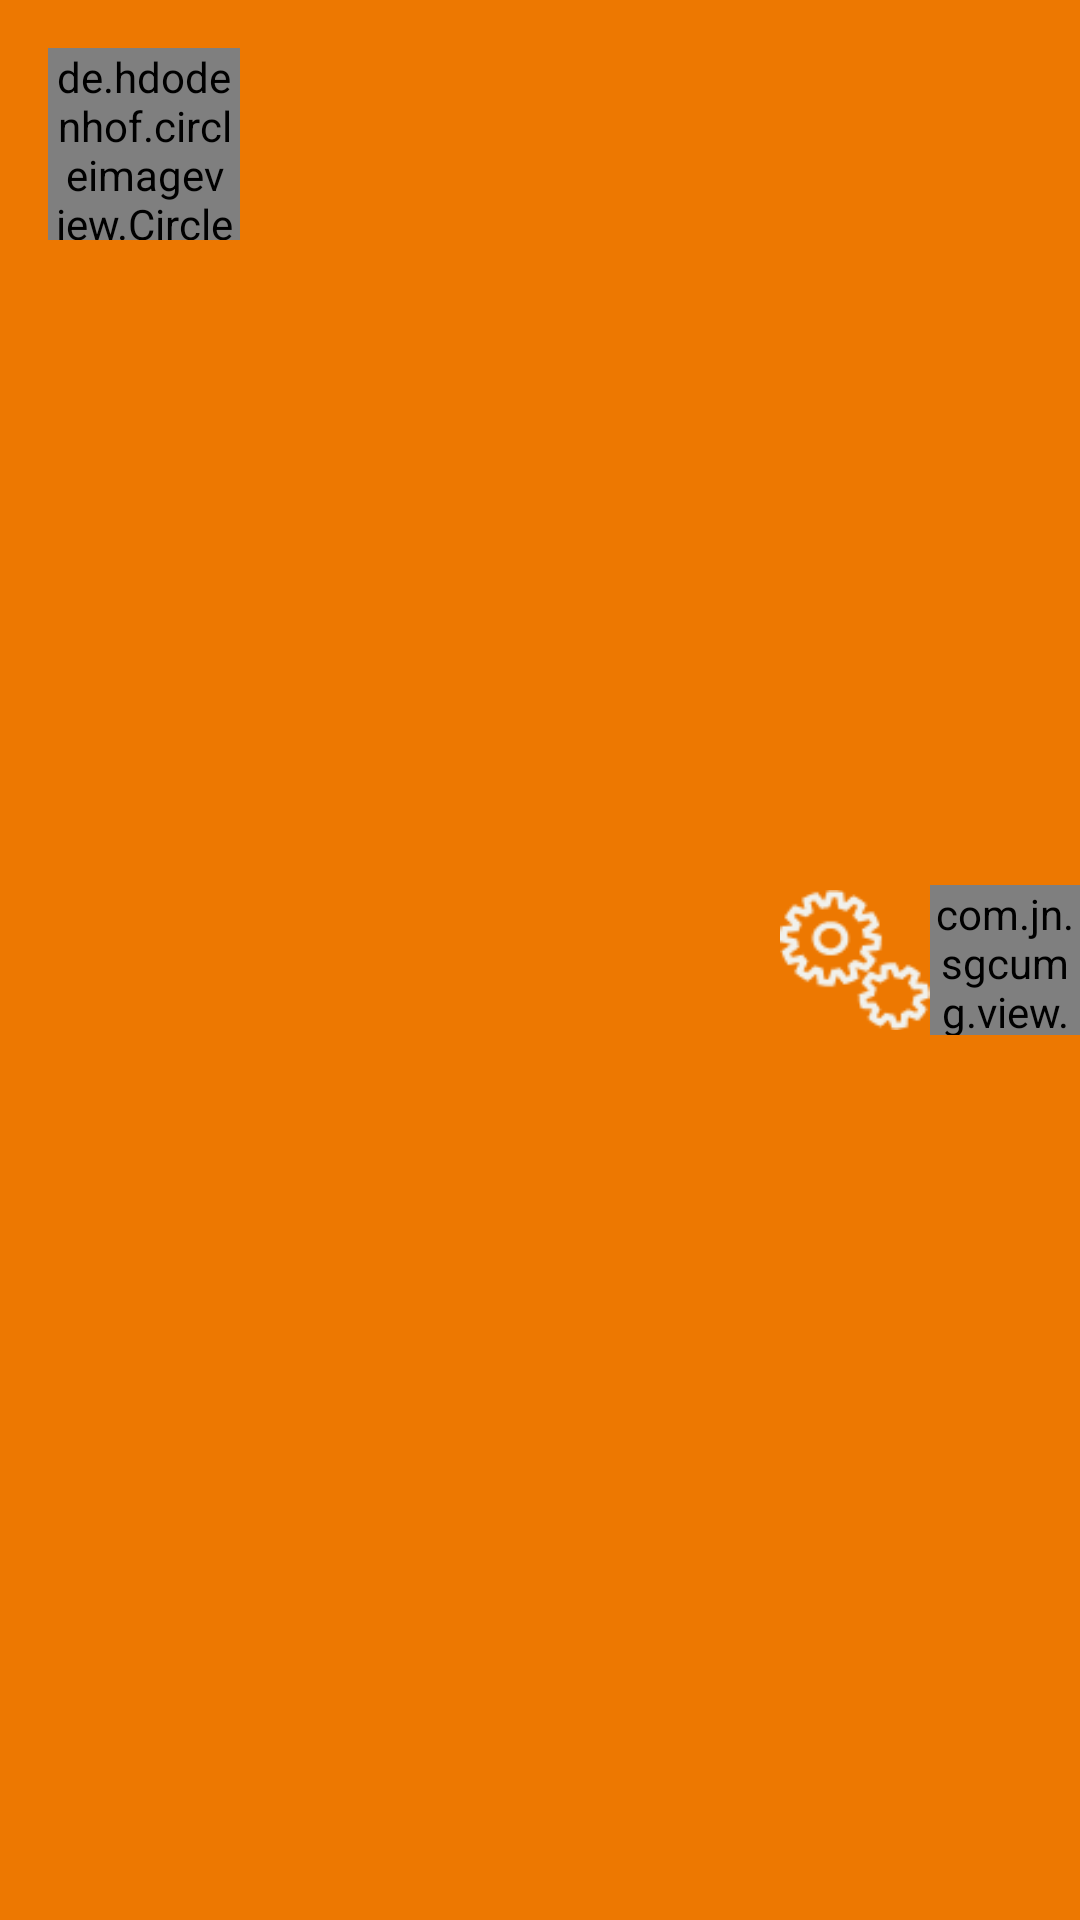

Icon bounding boxes for this 1080px×1920px phone screenshot, format bbox(x1, y1, x2, y2):
settings: bbox(780, 890, 930, 1030)
